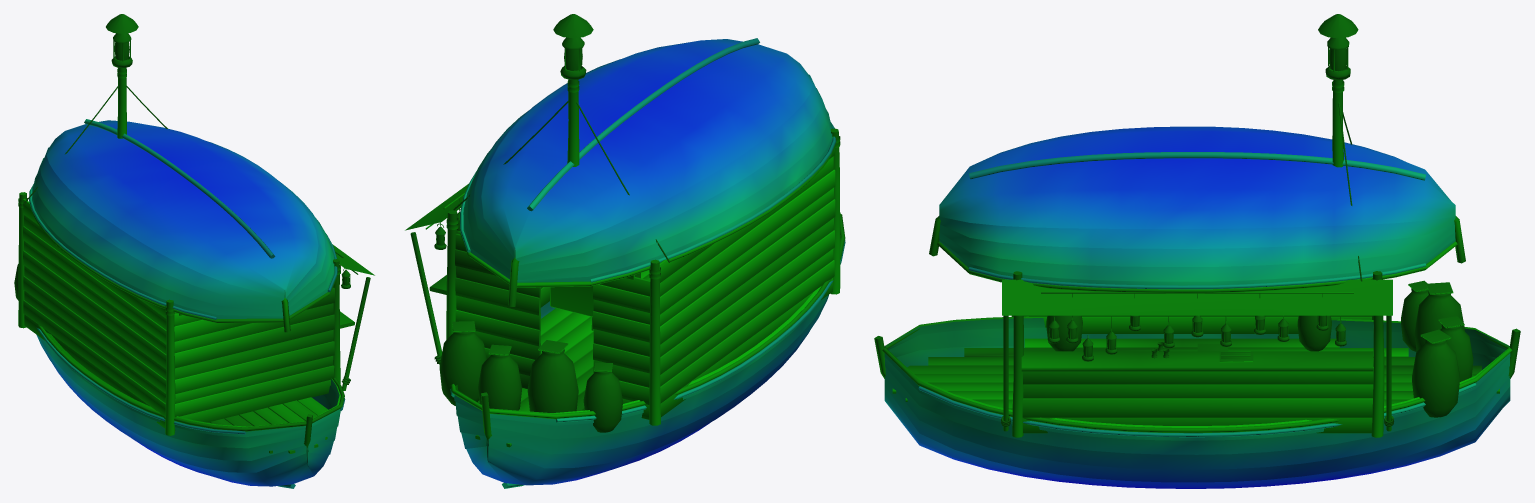
File: chandlery.glb
3 renders of one model, left to right at view 1: azimuth 30°, elevation 25°; view 2: azimuth 150°, elevation 25°; view 3: azimuth 270°, elevation 25°, orthographic. The views are drawn at different scales.
Parts seen in each view (by area): view 1: chandlery; view 2: chandlery; view 3: chandlery.
Boxes of the visible parts, x1,y1,x2,y2 form: chandlery: (14, 14, 374, 488); chandlery: (405, 14, 845, 488); chandlery: (874, 14, 1520, 488).
Size of what is drawn, in the model's own units: 4.1 by 6.47 by 8.27.
